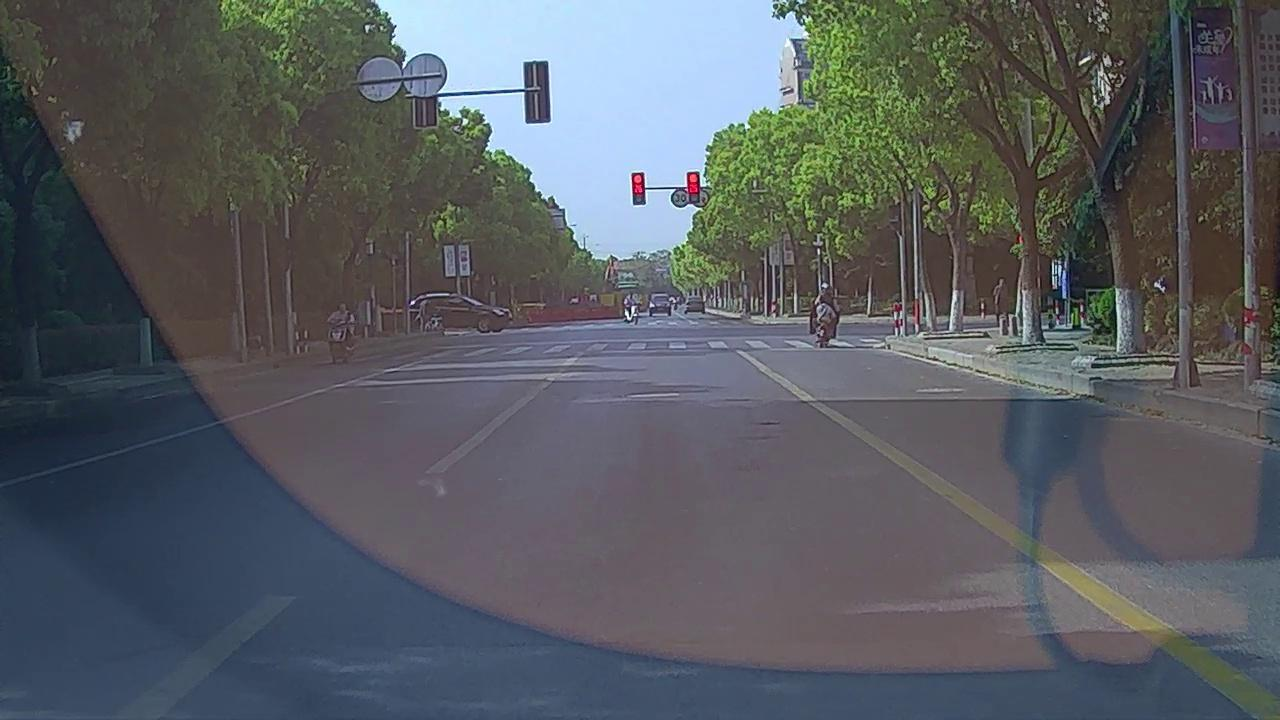traffic_light: (632, 173, 645, 205), (687, 171, 700, 203)
